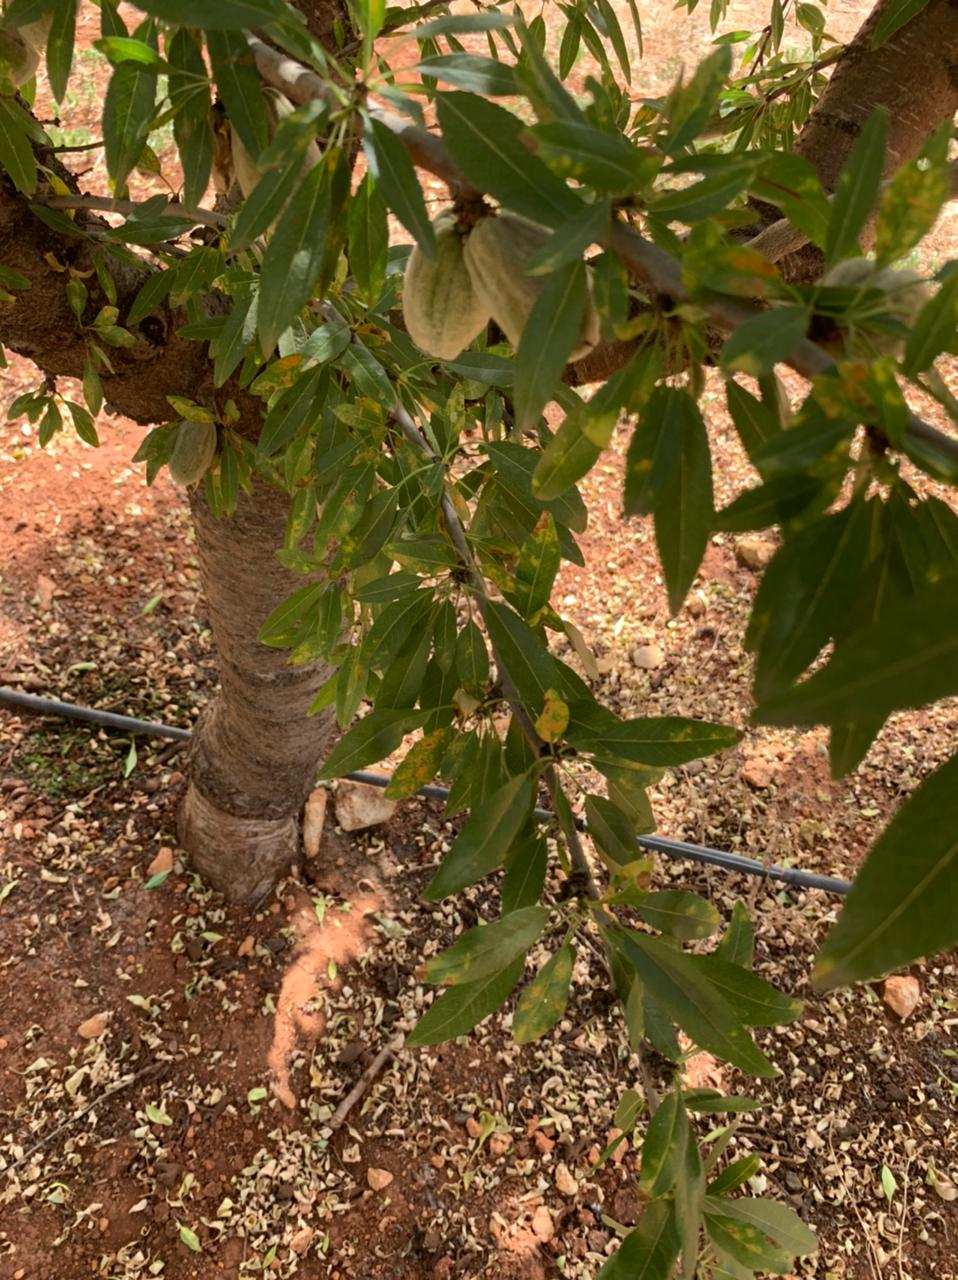polystigma: (308, 457, 382, 564), (508, 945, 574, 1044), (382, 725, 464, 803), (620, 891, 728, 944), (513, 510, 562, 619), (245, 352, 316, 398), (529, 688, 574, 749)
